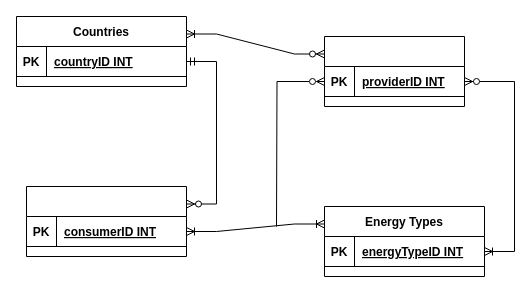
Some shapes in this 531 by 293 pixel diagram are drawn without their labels. Each missing label, with the box of its shape:
Consumers: (26, 186, 186, 256)
Providers: (324, 36, 464, 106)
